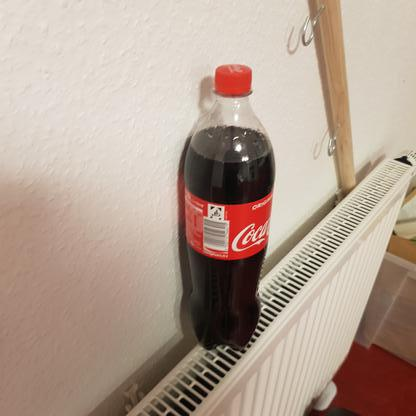coca-cola: (182, 61, 276, 356)
